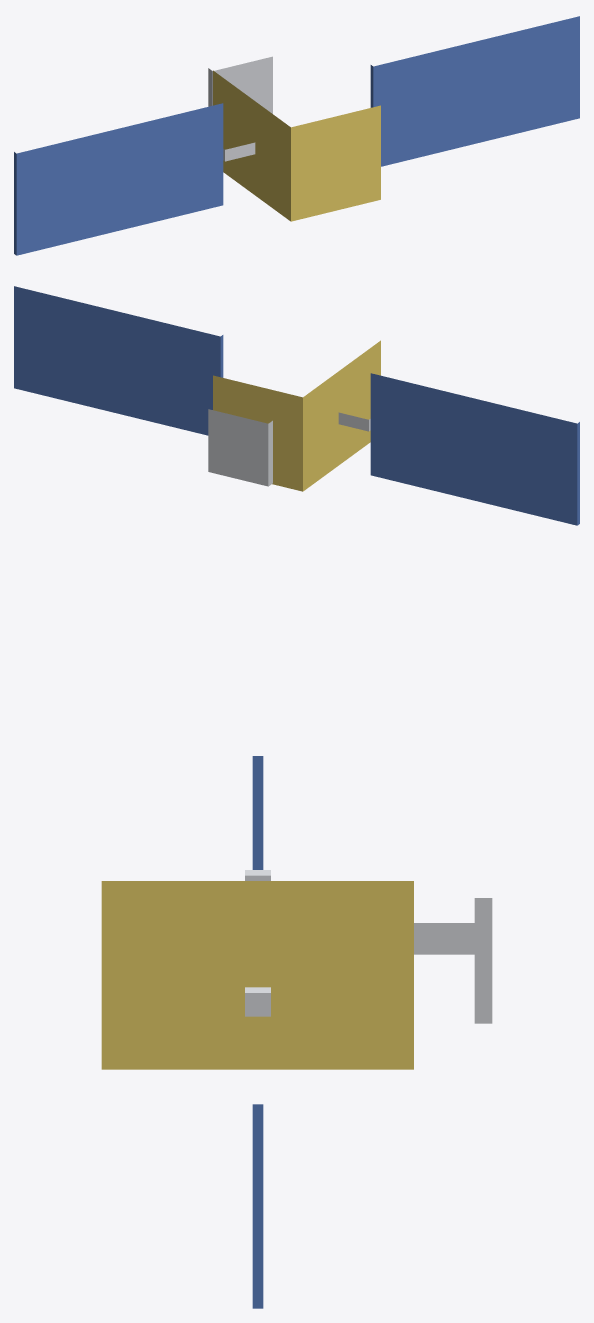
The model's file is satellite.gltf.
3 renders of one model, top to bottom at view 1: azimuth 30°, elevation 25°; view 2: azimuth 150°, elevation 25°; view 3: azimuth 270°, elevation 25°, orthographic. The views are drawn at different scales.
Parts seen in each view (by area): view 1: SatelliteBus; view 2: SatelliteBus; view 3: SatelliteBus.
Part boxes in pixels (x1,y1,x2,y2): SatelliteBus: [14, 16, 579, 255]; SatelliteBus: [14, 286, 579, 525]; SatelliteBus: [101, 756, 492, 1308].
Size of the model in its own units: 15 by 2.6 by 4.5.
